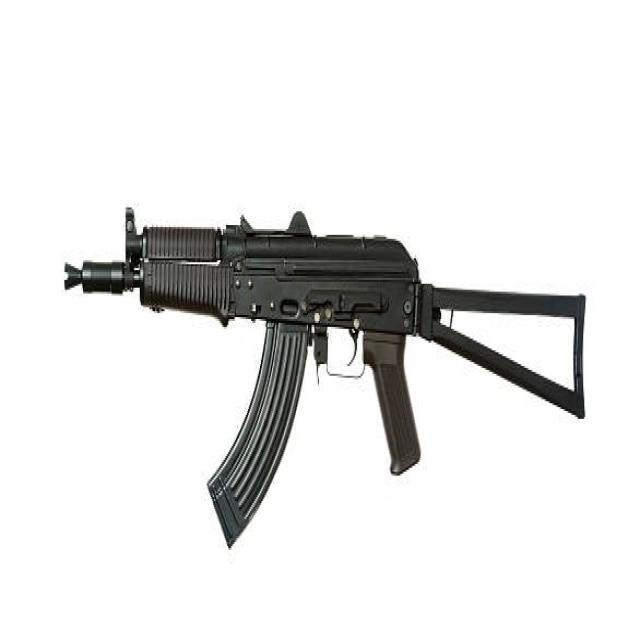rifle: (60, 196, 595, 556)
